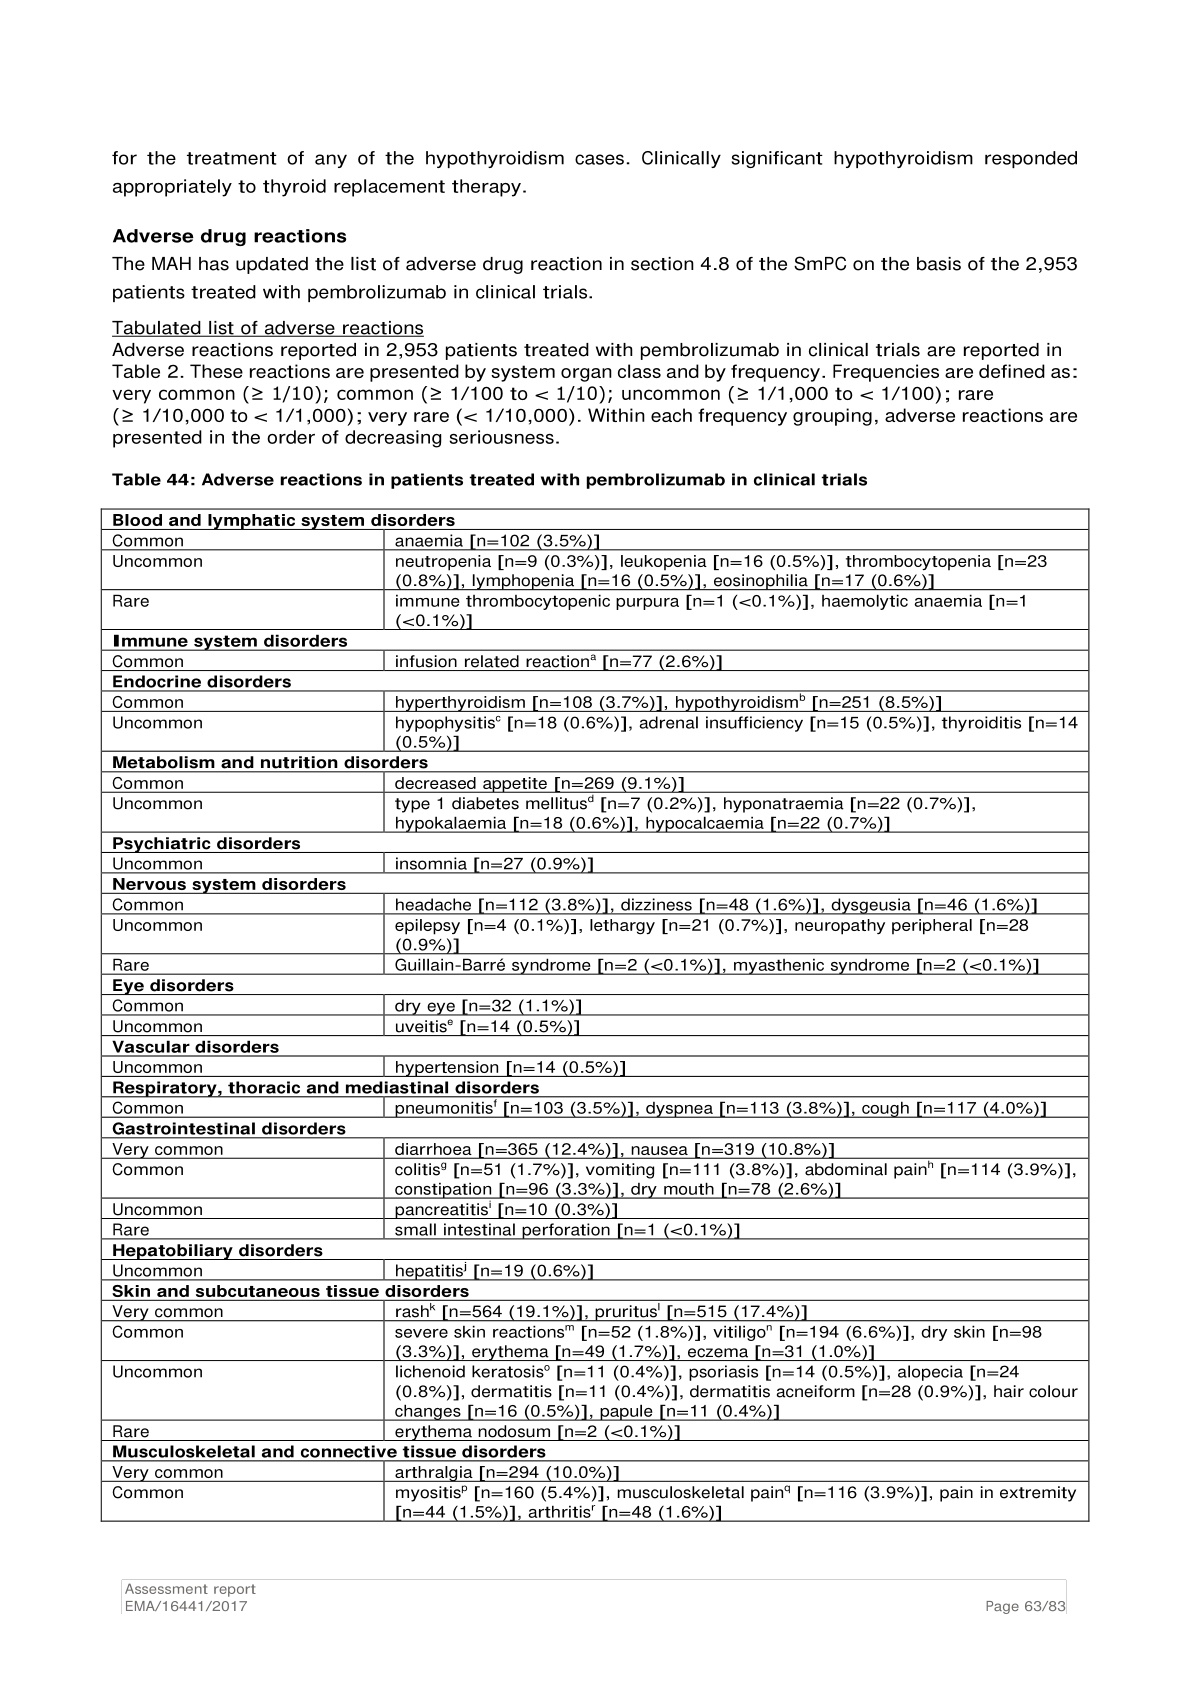merged_cells: (100, 507, 1091, 1522)
